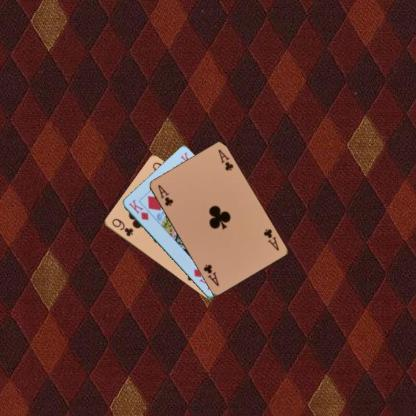9c: (109, 216, 135, 238)
Ac: (261, 226, 280, 252), (155, 182, 174, 207)
Kd: (126, 196, 150, 221)
